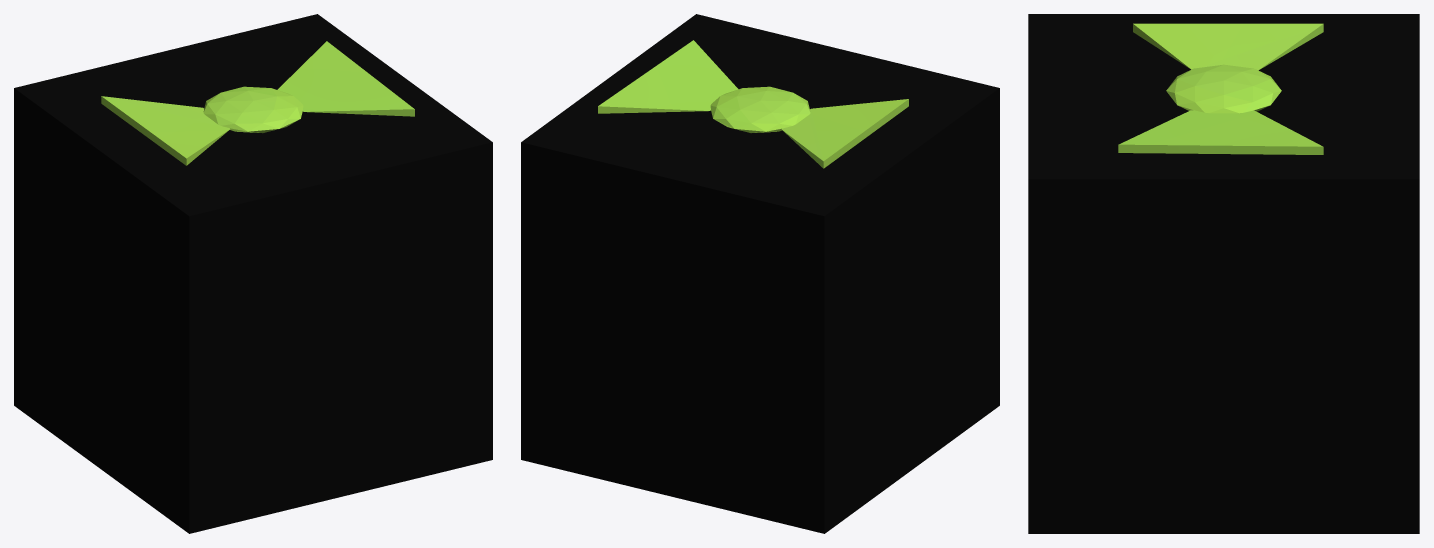
Rendered from evil.dae.
3 renders of one model, left to right at view 1: azimuth 30°, elevation 25°; view 2: azimuth 150°, elevation 25°; view 3: azimuth 270°, elevation 25°, orthographic. The views are drawn at different scales.
Parts seen in each view (by area): view 1: Cube; view 2: Cube; view 3: Cube.
Boxes of the visible parts, x1,y1,x2,y2 form: Cube: (14,14,492,533); Cube: (521,14,999,533); Cube: (1028,14,1419,533).
Size of the model in its own units: 0.1682 by 0.1682 by 0.1758.
1 material, 1 textured.
